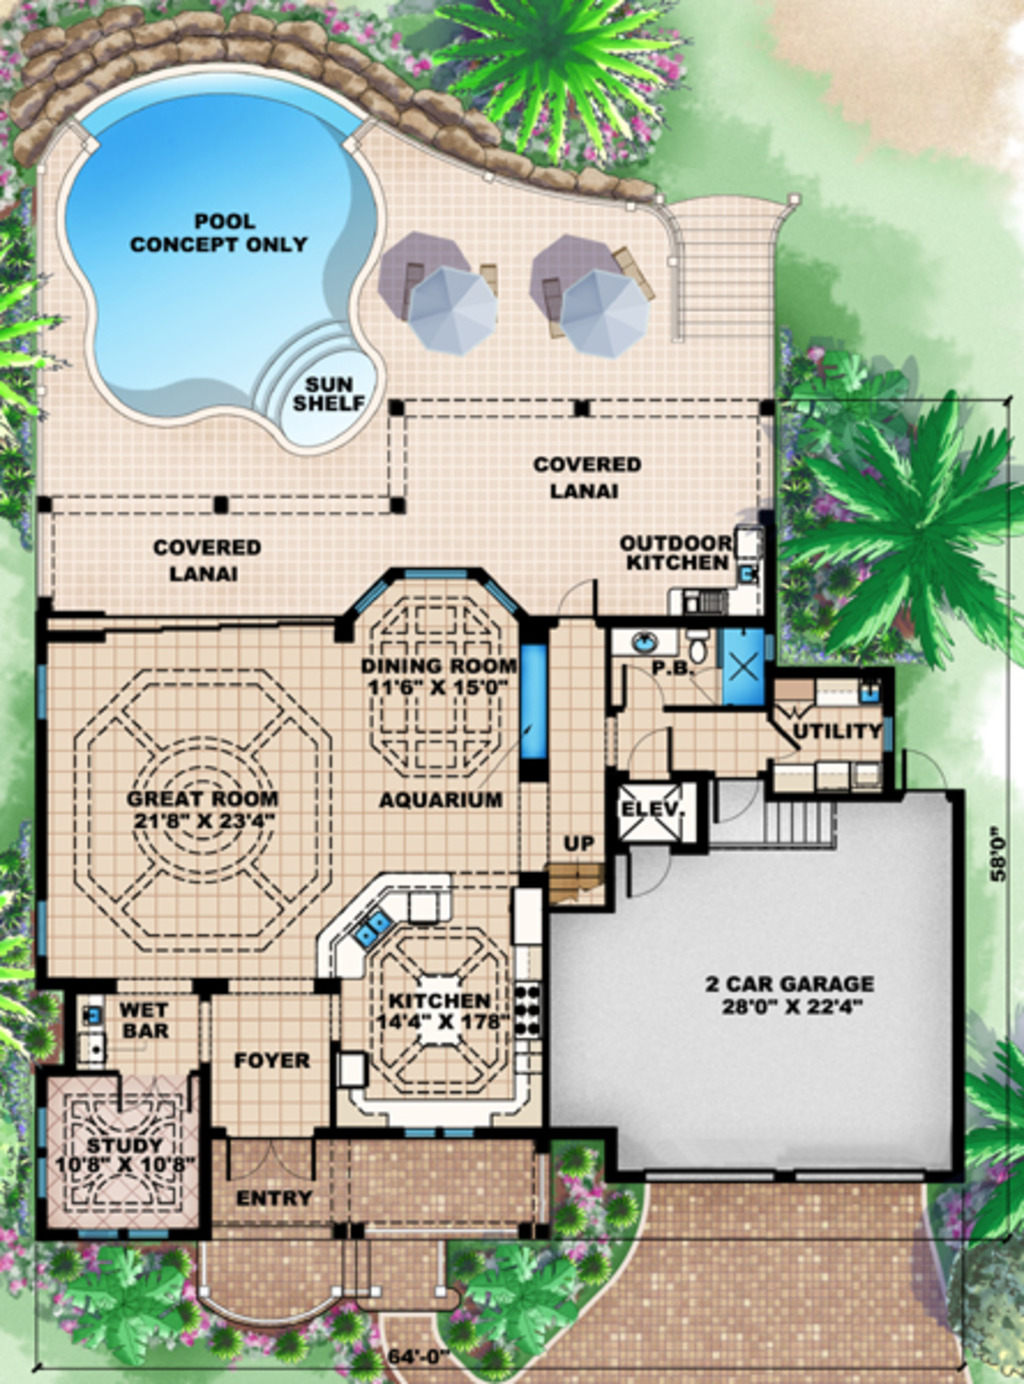door: (219, 1128, 321, 1188), (624, 847, 674, 904), (616, 662, 675, 710), (627, 725, 670, 781), (561, 576, 601, 634), (716, 775, 757, 823), (766, 719, 801, 762)
large_sink: (683, 620, 719, 672)
small_sink: (605, 623, 682, 660)
stairs: (755, 794, 838, 848)
twin_sink: (352, 904, 392, 951)
windows: (401, 1119, 483, 1148), (32, 1100, 52, 1204), (392, 562, 477, 579), (35, 662, 54, 737), (35, 895, 54, 959)
